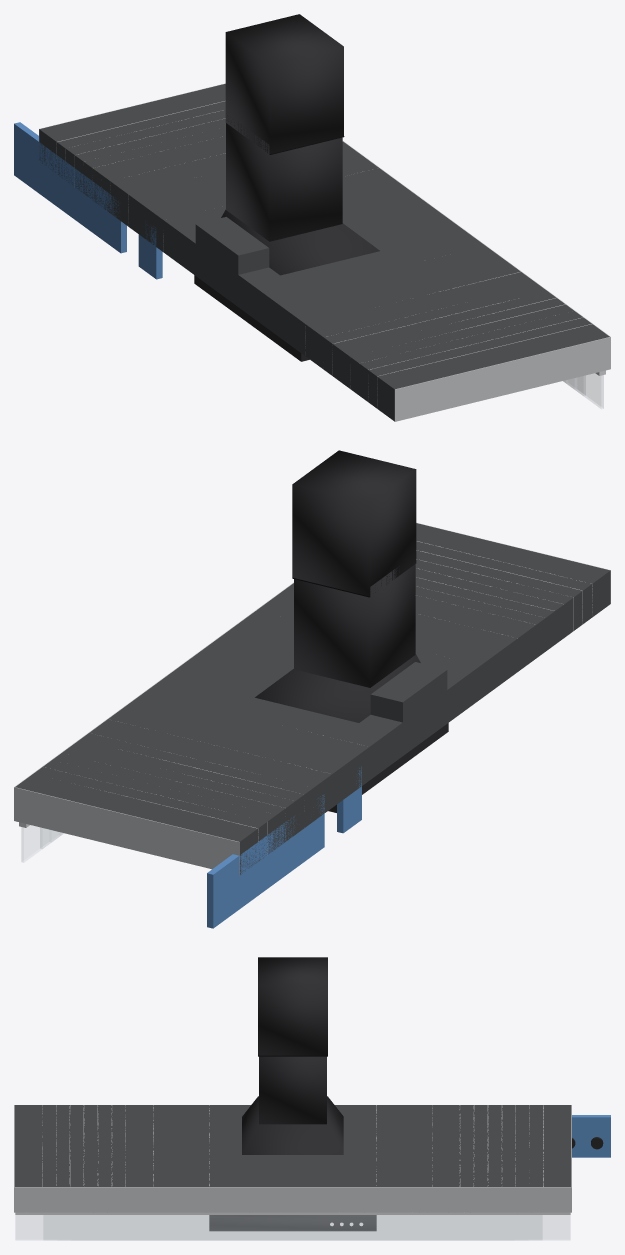
Rendered from Dunstabzug_Flachhauben_mit_Kaminhaube.glb.
The picture shows the model from 3 angles, top to bottom: view 1: azimuth 30°, elevation 25°; view 2: azimuth 150°, elevation 25°; view 3: azimuth 270°, elevation 25°; orthographic projection. The views are drawn at different scales.
Parts seen in each view (by area): view 1: Dunstabzug_Flachhaube_1600x700x220_Korpus_Platte, Dunstabzug_Flachhaube_1800x700x220_Korpus_Platte, Dunstabzug_Flachhaube_1400x700x220_Korpus_Platte, Dunstabzug_Flachhaube_2000x700x220_Korpus_Platte, Dunstabzug_Kaminhaube_600x500_Kamin_oben, Dunstabzug_Kaminhaube_600x500_Kamin_unten, Dunstabzug_Flachhaube_1500x700x220_Korpus_Platte, Dunstabzug_Flachhaube_2000x700x220_Kante_L, Dunstabzug_Flachhaube_1200x700x220_Korpus_Platte, Dunstabzug_Flachhaube_1700x700x220_Korpus_Platte, Dunstabzug_Flachhaube_1300x700x220_Korpus_Platte, Dunstabzug_Flachhaube_1000x700x220_Korpus_Platte (+15 smaller); view 2: Dunstabzug_Flachhaube_2000x700x220_Korpus_Platte, Dunstabzug_Flachhaube_1600x700x220_Korpus_Platte, Dunstabzug_Flachhaube_1400x700x220_Korpus_Platte, Dunstabzug_Kaminhaube_600x500_Kamin_oben, Dunstabzug_Kaminhaube_600x500_Kamin_unten, Dunstabzug_Flachhaube_1500x700x220_Korpus_Platte, Dunstabzug_Flachhaube_2000x700x220_Kante_R, Dunstabzug_Flachhaube_1200x700x220_Korpus_Platte, Dunstabzug_Flachhaube_1000x700x220_Korpus_Platte, Dunstabzug_Flachhaube_1800x700x220_Korpus_Platte, Dunstabzug_Flachhaube_1700x700x220_Korpus_Platte, Dunstabzug_Kaminhaube_600x500_Haube_abgeschraegt (+12 smaller); view 3: Dunstabzug_Flachhaube_1200x700x220_Korpus_Platte, Dunstabzug_Flachhaube_1000x700x220_Korpus_Platte, Dunstabzug_Flachhaube_2000x700x220_Korpus_Platte, Dunstabzug_Flachhaube_1300x700x220_Korpus_Platte, Dunstabzug_Flachhaube_1700x700x220_Korpus_Platte, Dunstabzug_Flachhaube_1400x700x220_Korpus_Platte, Dunstabzug_Flachhaube_1600x700x220_Korpus_Platte, Dunstabzug_Flachhaube_1800x700x220_Korpus_Platte, Dunstabzug_Flachhaube_1500x700x220_Korpus_Platte, Dunstabzug_Kaminhaube_600x500_Kamin_oben, Dunstabzug_Flachhaube_600x700x220_Korpus_Platte, Dunstabzug_Flachhaube_1000x700x220_Kante_vorne (+25 smaller).
Part boxes in pixels (bbox=[...]): Dunstabzug_Flachhaube_1600x700x220_Korpus_Platte: bbox=[75, 118, 573, 392]; Dunstabzug_Flachhaube_1800x700x220_Korpus_Platte: bbox=[57, 101, 591, 407]; Dunstabzug_Flachhaube_1400x700x220_Korpus_Platte: bbox=[92, 136, 556, 381]; Dunstabzug_Flachhaube_2000x700x220_Korpus_Platte: bbox=[39, 84, 609, 421]; Dunstabzug_Kaminhaube_600x500_Kamin_oben: bbox=[225, 14, 343, 154]; Dunstabzug_Kaminhaube_600x500_Kamin_unten: bbox=[226, 115, 342, 241]; Dunstabzug_Flachhaube_1500x700x220_Korpus_Platte: bbox=[83, 127, 559, 387]; Dunstabzug_Flachhaube_2000x700x220_Kante_L: bbox=[394, 337, 610, 421]; Dunstabzug_Flachhaube_1200x700x220_Korpus_Platte: bbox=[110, 142, 503, 368]; Dunstabzug_Flachhaube_1700x700x220_Korpus_Platte: bbox=[66, 110, 582, 401]; Dunstabzug_Flachhaube_1300x700x220_Korpus_Platte: bbox=[101, 145, 546, 344]; Dunstabzug_Flachhaube_1000x700x220_Korpus_Platte: bbox=[128, 144, 373, 355]; Dunstabzug_Flachhaube_2000x700x220_Korpus_Platte: bbox=[15, 523, 610, 874]; Dunstabzug_Flachhaube_1600x700x220_Korpus_Platte: bbox=[52, 560, 573, 812]; Dunstabzug_Flachhaube_1400x700x220_Korpus_Platte: bbox=[140, 577, 554, 834]; Dunstabzug_Kaminhaube_600x500_Kamin_oben: bbox=[292, 450, 416, 596]; Dunstabzug_Kaminhaube_600x500_Kamin_unten: bbox=[294, 564, 415, 687]; Dunstabzug_Flachhaube_1500x700x220_Korpus_Platte: bbox=[184, 568, 564, 834]; Dunstabzug_Flachhaube_2000x700x220_Kante_R: bbox=[14, 787, 239, 875]; Dunstabzug_Flachhaube_1200x700x220_Korpus_Platte: bbox=[92, 583, 495, 791]; Dunstabzug_Flachhaube_1000x700x220_Korpus_Platte: bbox=[241, 614, 517, 806]; Dunstabzug_Flachhaube_1800x700x220_Korpus_Platte: bbox=[91, 541, 591, 841]; Dunstabzug_Flachhaube_1700x700x220_Korpus_Platte: bbox=[46, 550, 582, 854]; Dunstabzug_Kaminhaube_600x500_Haube_abgeschraegt: bbox=[255, 654, 420, 722]; Dunstabzug_Flachhaube_1200x700x220_Korpus_Platte: bbox=[126, 1105, 459, 1186]; Dunstabzug_Flachhaube_1000x700x220_Korpus_Platte: bbox=[154, 1105, 431, 1186]; Dunstabzug_Flachhaube_2000x700x220_Korpus_Platte: bbox=[14, 1105, 571, 1186]; Dunstabzug_Flachhaube_1300x700x220_Korpus_Platte: bbox=[112, 1105, 473, 1186]; Dunstabzug_Flachhaube_1700x700x220_Korpus_Platte: bbox=[56, 1105, 529, 1186]; Dunstabzug_Flachhaube_1400x700x220_Korpus_Platte: bbox=[98, 1105, 487, 1186]; Dunstabzug_Flachhaube_1600x700x220_Korpus_Platte: bbox=[70, 1105, 515, 1186]; Dunstabzug_Flachhaube_1800x700x220_Korpus_Platte: bbox=[42, 1105, 543, 1186]; Dunstabzug_Flachhaube_1500x700x220_Korpus_Platte: bbox=[84, 1105, 501, 1186]; Dunstabzug_Kaminhaube_600x500_Kamin_oben: bbox=[258, 957, 327, 1055]; Dunstabzug_Flachhaube_600x700x220_Korpus_Platte: bbox=[210, 1105, 375, 1186]; Dunstabzug_Flachhaube_1000x700x220_Kante_vorne: bbox=[153, 1187, 432, 1212].
Size of the model in its own units: 7 by 8.5 by 21.4.
